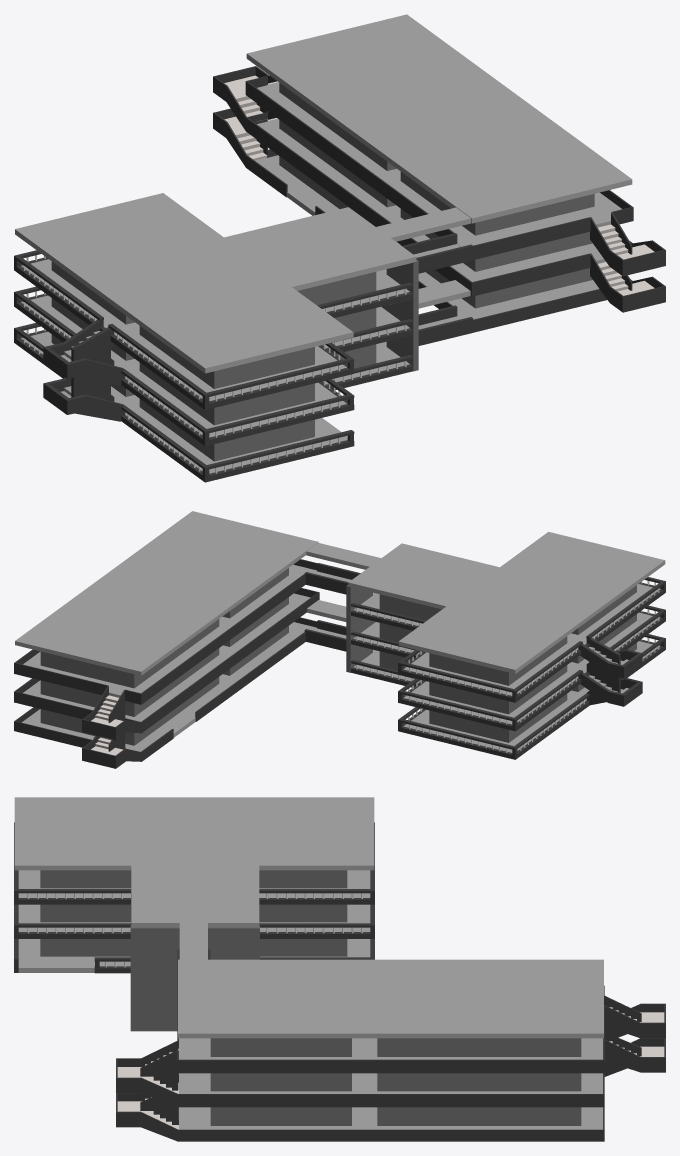
The model's file is Mansion_3.0.fbx.
The picture shows the model from 3 angles, top to bottom: view 1: azimuth 30°, elevation 25°; view 2: azimuth 150°, elevation 25°; view 3: azimuth 270°, elevation 25°; orthographic projection. The views are drawn at different scales.
Visible parts, largest first — view 1: 2nd3F_Floor, 1st3F_Ceiling, 1st3F_Wall, 1st2F_Wall, 1st1F_Wall, 2nd3F_Wall, 1st3F_Room, 2nd2F_Wall, 1st3F_Floor, 1st2F_Room, 1st2F_Floor, 2nd2F_Floor (+19 smaller); view 2: 2nd3F_Floor, 1st3F_Ceiling, 1st3F_Wall, 1st2F_Wall, 1st1F_Wall, 2nd3F_Wall, 2nd2F_Wall, 1st3F_Room, 2nd1F_Floor, 2nd1F_Wall, 1st3F_Floor, 2nd3F_Room (+14 smaller); view 3: 2nd3F_Floor, 1st3F_Ceiling, 1st3F_Wall, 2nd1F_Room, 2nd3F_Room, 2nd2F_Room, 2nd3F_Wall, 2nd2F_Wall, 2nd1F_Wall, 1st2F_Wall, 1st3F_Room, 1st2F_Room (+12 smaller).
Part boxes in pixels (left/top/right/bottom): 2nd3F_Floor: left=246, top=14, right=632, bottom=246; 1st3F_Ceiling: left=15, top=193, right=416, bottom=373; 1st3F_Wall: left=14, top=250, right=418, bottom=409; 1st2F_Wall: left=14, top=286, right=418, bottom=446; 1st1F_Wall: left=14, top=323, right=418, bottom=482; 2nd3F_Wall: left=245, top=76, right=633, bottom=259; 1st3F_Room: left=51, top=261, right=376, bottom=388; 2nd2F_Wall: left=245, top=112, right=632, bottom=296; 1st3F_Floor: left=21, top=259, right=409, bottom=401; 1st2F_Room: left=51, top=298, right=376, bottom=425; 1st2F_Floor: left=21, top=295, right=409, bottom=437; 2nd2F_Floor: left=257, top=118, right=605, bottom=281; 2nd3F_Floor: left=15, top=511, right=318, bottom=697; 1st3F_Ceiling: left=348, top=532, right=665, bottom=673; 1st3F_Wall: left=346, top=577, right=665, bottom=702; 1st2F_Wall: left=346, top=605, right=665, bottom=731; 1st1F_Wall: left=346, top=634, right=665, bottom=759; 2nd3F_Wall: left=14, top=559, right=317, bottom=704; 2nd2F_Wall: left=14, top=588, right=319, bottom=733; 1st3F_Room: left=379, top=585, right=636, bottom=685; 2nd1F_Floor: left=22, top=622, right=317, bottom=751; 2nd1F_Wall: left=14, top=617, right=316, bottom=761; 1st3F_Floor: left=353, top=584, right=660, bottom=695; 2nd3F_Room: left=40, top=568, right=288, bottom=688; 2nd3F_Floor: left=178, top=959, right=603, bottom=1059; 1st3F_Ceiling: left=14, top=797, right=374, bottom=927; 1st3F_Wall: left=14, top=822, right=374, bottom=962; 2nd1F_Room: left=210, top=1107, right=581, bottom=1125; 2nd3F_Room: left=210, top=1038, right=581, bottom=1056; 2nd2F_Room: left=210, top=1073, right=581, bottom=1091; 2nd3F_Wall: left=177, top=985, right=604, bottom=1073; 2nd2F_Wall: left=177, top=1073, right=604, bottom=1107; 2nd1F_Wall: left=177, top=1107, right=604, bottom=1141; 1st2F_Wall: left=14, top=904, right=374, bottom=997; 1st3F_Room: left=40, top=870, right=347, bottom=888; 1st2F_Room: left=40, top=904, right=347, bottom=922.
Size of what is drawn, in the model's own units: 3453 by 662 by 3628.
